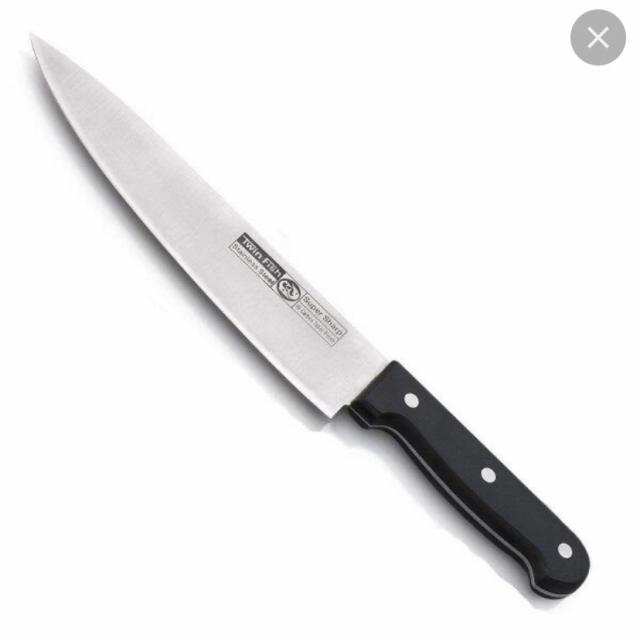Knife: (20, 20, 591, 601)
